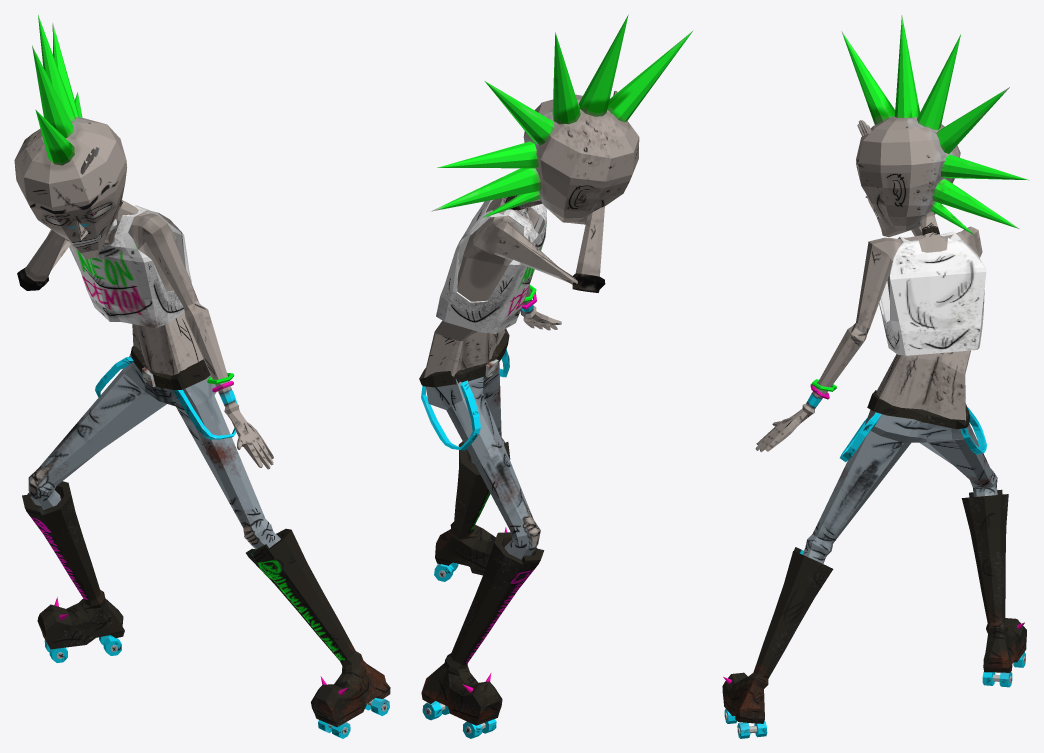
File: punkAnimation_000055.obj
3 views of the same model, side by side, from view 1: azimuth 30°, elevation 25°; view 2: azimuth 150°, elevation 25°; view 3: azimuth 270°, elevation 25° (orthographic). The views are drawn at different scales.
Parts seen in each view (by area): view 1: Cube.004_Cube.003; view 2: Cube.004_Cube.003; view 3: Cube.004_Cube.003.
Boxes of the visible parts, bbox=[...] form: Cube.004_Cube.003: bbox=[14, 15, 390, 738]; Cube.004_Cube.003: bbox=[419, 14, 693, 738]; Cube.004_Cube.003: bbox=[722, 15, 1028, 738].
Bounding box in the file's own units: 3.12 × 6.72 × 3.04.
